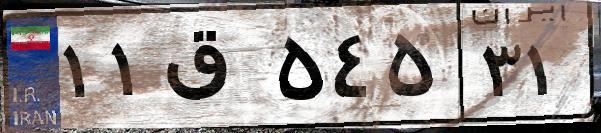1: (57, 26, 110, 100), (525, 38, 570, 115), (110, 28, 158, 98)
3: (475, 38, 525, 113)
4: (330, 28, 385, 110)
5: (270, 28, 330, 110), (385, 28, 445, 110)
ق: (158, 20, 270, 120)
